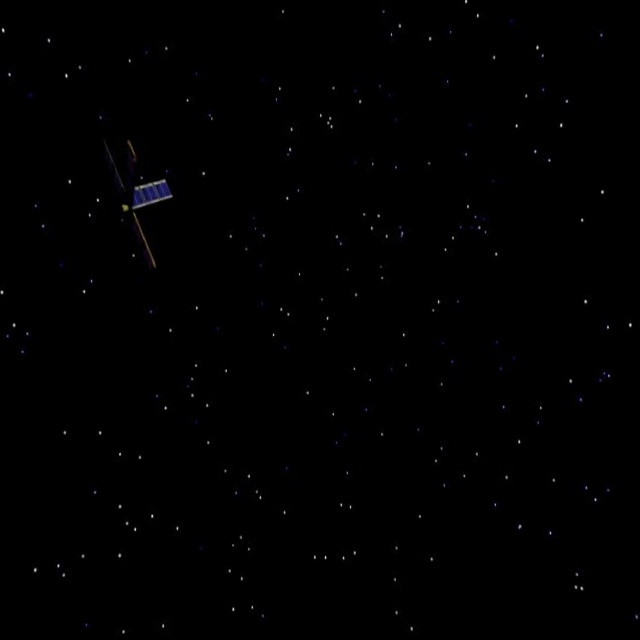medium_debris: (86, 127, 185, 279)
